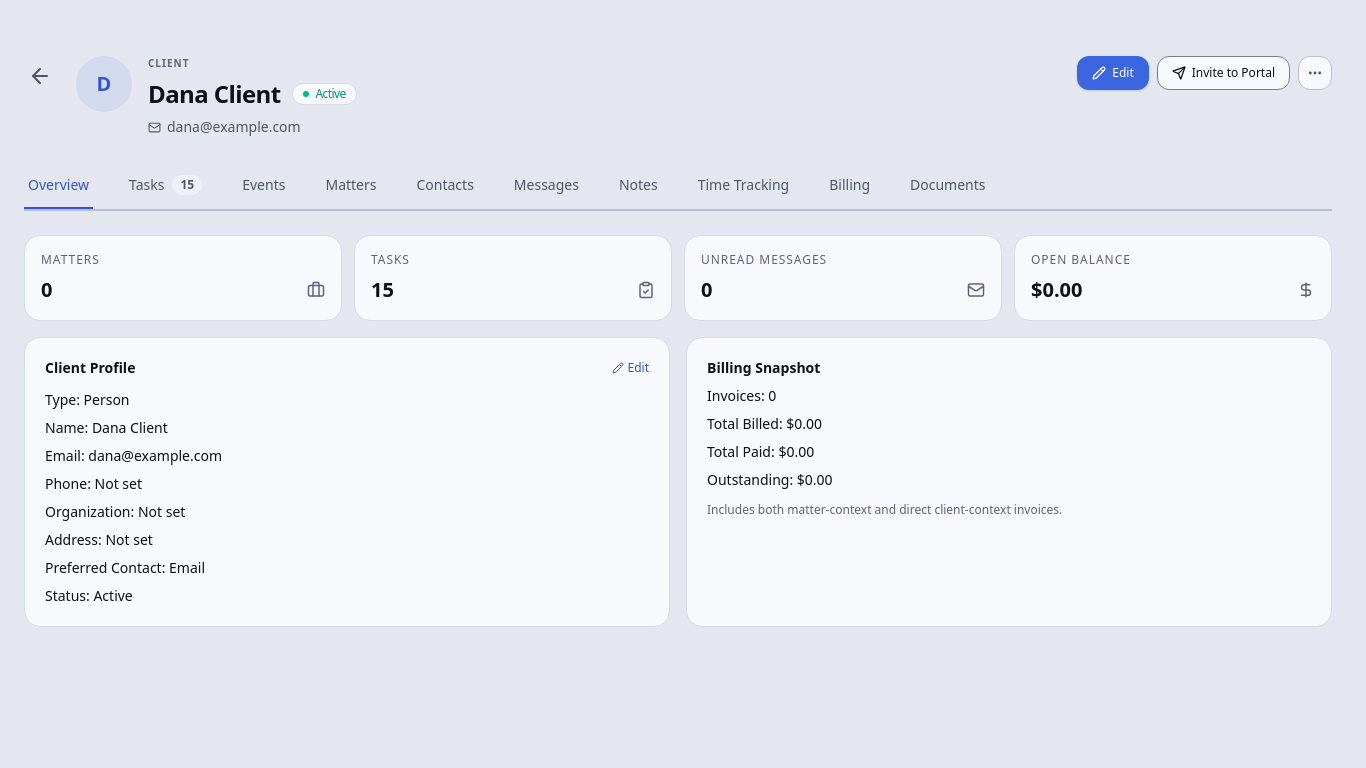
Scenario: searching the task list › sends the term to the server and shows the matches from every page
The image size is (1366, 768).
Expected: the heading "Dana Client Active" is shown, [148,77,357,110]
Click the 1st button "Tasks 15": (166, 186) [125,163,206,209]
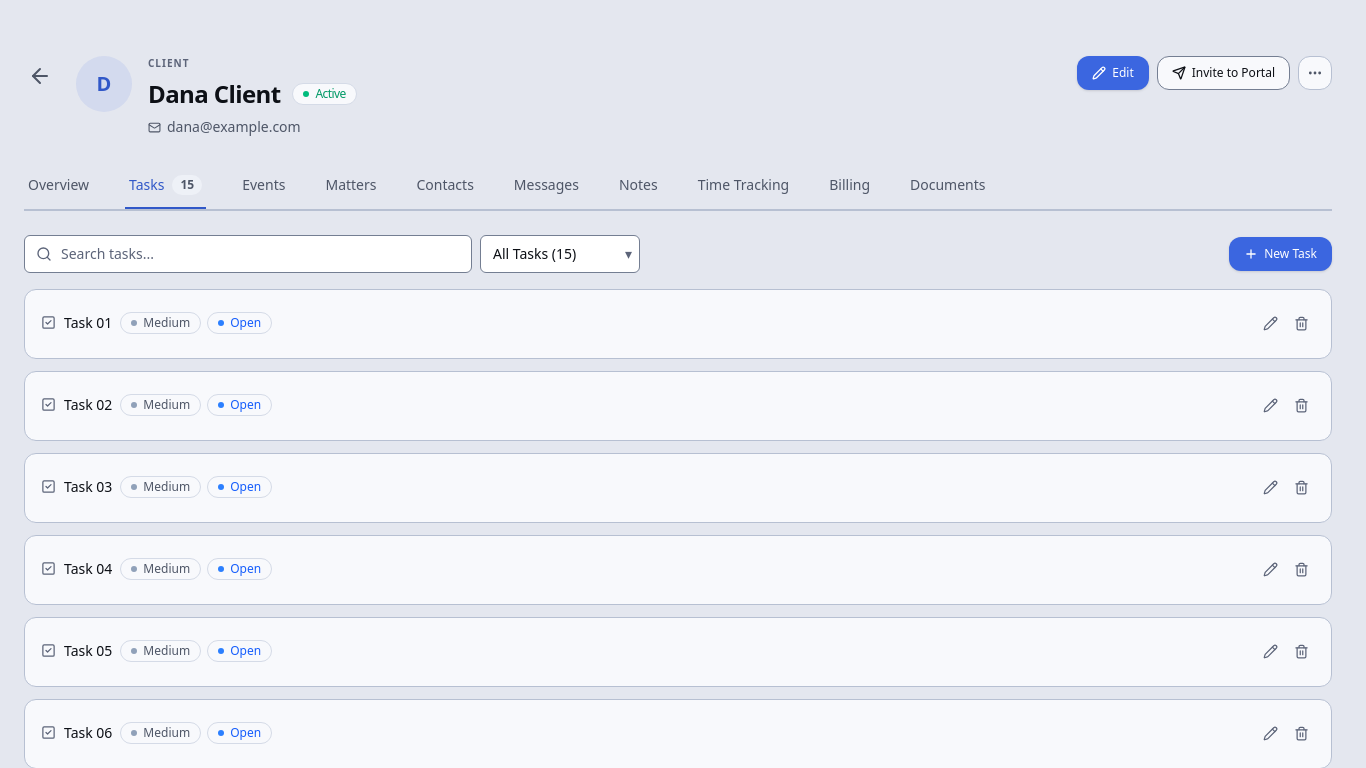
Expected: the text "Task 01" is shown, [41,313,112,333]
In the field with placeholder "Search tasks...": (248, 254) [24,235,472,273], type "Task 14"
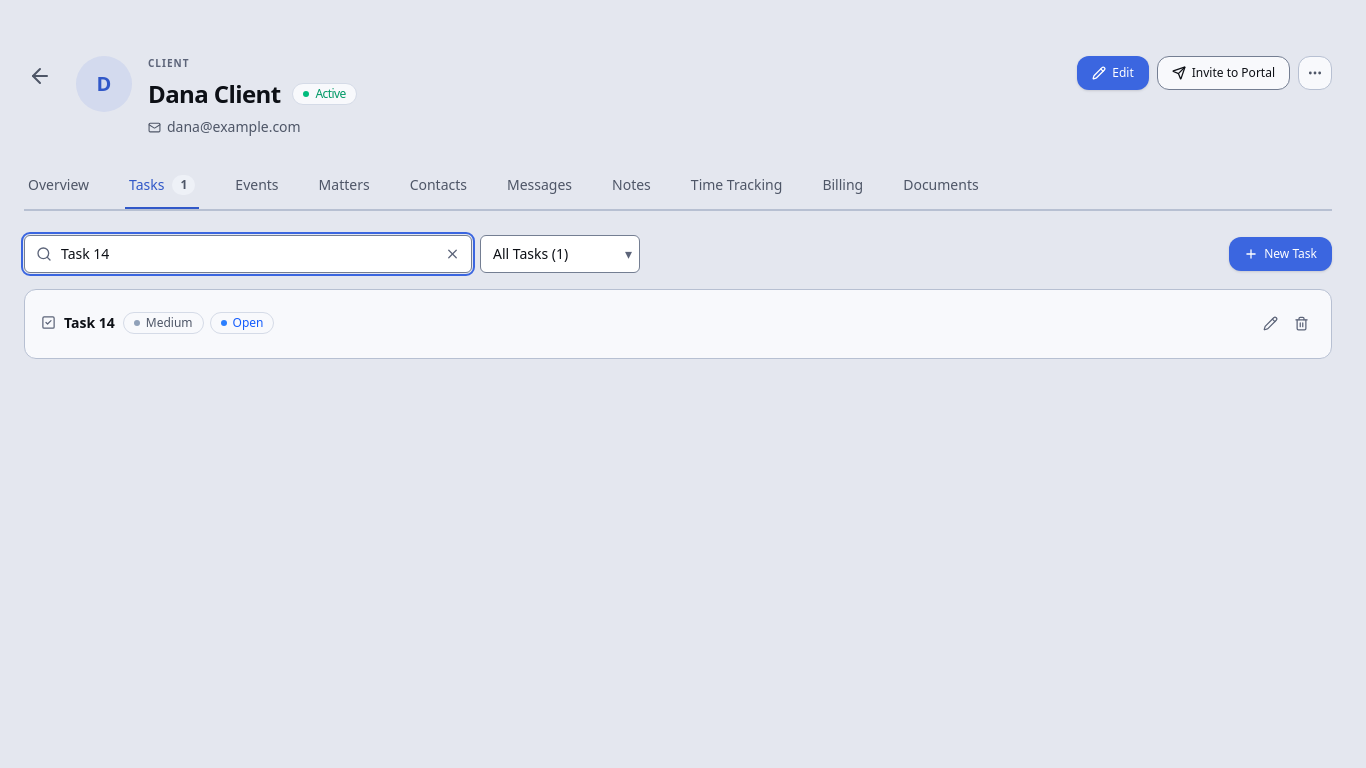
Expected: the text "Task 14" is shown, [64,313,115,333]
Expected: the text "Task 01" is gone
